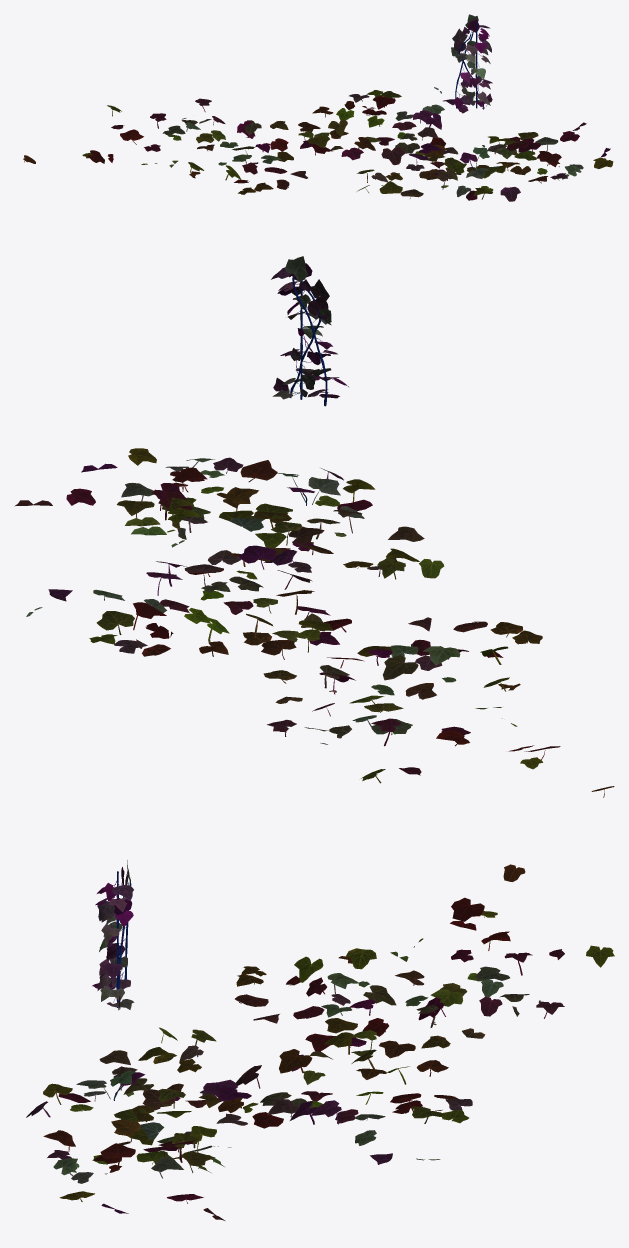
3 renders of one model, top to bottom at view 1: azimuth 30°, elevation 25°; view 2: azimuth 150°, elevation 25°; view 3: azimuth 270°, elevation 25°, orthographic. The views are drawn at different scales.
Visible parts, largest first — view 1: SM_xfcnebhqx_VarA, SM_xfcnebhqx_VarE, SM_xfcnebhqx_VarF, SM_xfcnebhqx_VarC, SM_xfcnebhqx_VarD, SM_xfcnebhqx_VarG, SM_xfcnebhqx_VarB, SM_xfcnebhqx_VarI, SM_xfcnebhqx_VarH; view 2: SM_xfcnebhqx_VarA, SM_xfcnebhqx_VarE, SM_xfcnebhqx_VarF, SM_xfcnebhqx_VarG, SM_xfcnebhqx_VarC, SM_xfcnebhqx_VarB, SM_xfcnebhqx_VarD, SM_xfcnebhqx_VarH; view 3: SM_xfcnebhqx_VarA, SM_xfcnebhqx_VarE, SM_xfcnebhqx_VarF, SM_xfcnebhqx_VarD, SM_xfcnebhqx_VarG, SM_xfcnebhqx_VarC, SM_xfcnebhqx_VarH, SM_xfcnebhqx_VarI.
Boxes of the visible parts, x1,y1,x2,y2 form: SM_xfcnebhqx_VarA: [23, 87, 520, 201]; SM_xfcnebhqx_VarE: [182, 91, 466, 180]; SM_xfcnebhqx_VarF: [472, 137, 613, 183]; SM_xfcnebhqx_VarC: [453, 14, 483, 113]; SM_xfcnebhqx_VarD: [470, 22, 492, 109]; SM_xfcnebhqx_VarG: [467, 122, 586, 173]; SM_xfcnebhqx_VarB: [451, 19, 492, 106]; SM_xfcnebhqx_VarI: [460, 147, 489, 178]; SM_xfcnebhqx_VarH: [437, 171, 492, 199]; SM_xfcnebhqx_VarA: [26, 468, 614, 797]; SM_xfcnebhqx_VarE: [96, 518, 460, 744]; SM_xfcnebhqx_VarF: [81, 448, 292, 532]; SM_xfcnebhqx_VarG: [14, 488, 291, 547]; SM_xfcnebhqx_VarC: [277, 256, 348, 406]; SM_xfcnebhqx_VarB: [273, 263, 331, 397]; SM_xfcnebhqx_VarD: [271, 267, 322, 399]; SM_xfcnebhqx_VarH: [288, 479, 375, 544]; SM_xfcnebhqx_VarA: [26, 864, 614, 1164]; SM_xfcnebhqx_VarE: [123, 973, 564, 1128]; SM_xfcnebhqx_VarF: [43, 1108, 210, 1213]; SM_xfcnebhqx_VarD: [92, 871, 134, 1009]; SM_xfcnebhqx_VarG: [132, 1105, 231, 1220]; SM_xfcnebhqx_VarC: [99, 860, 133, 989]; SM_xfcnebhqx_VarH: [43, 1066, 175, 1110]; SM_xfcnebhqx_VarI: [76, 1070, 145, 1100].
Size of what is drawn, in the model's own units: 2.05 by 0.7884 by 1.5.
1 material, 1 textured.
